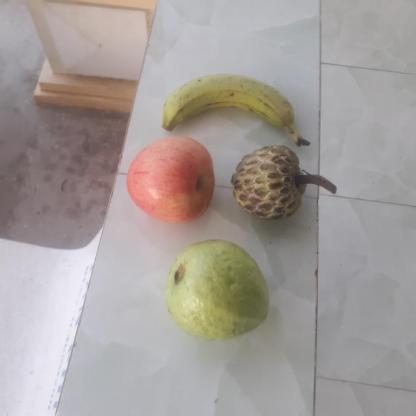annona: (226, 147, 310, 220)
apple: (124, 136, 218, 222)
guava: (159, 240, 265, 340)
